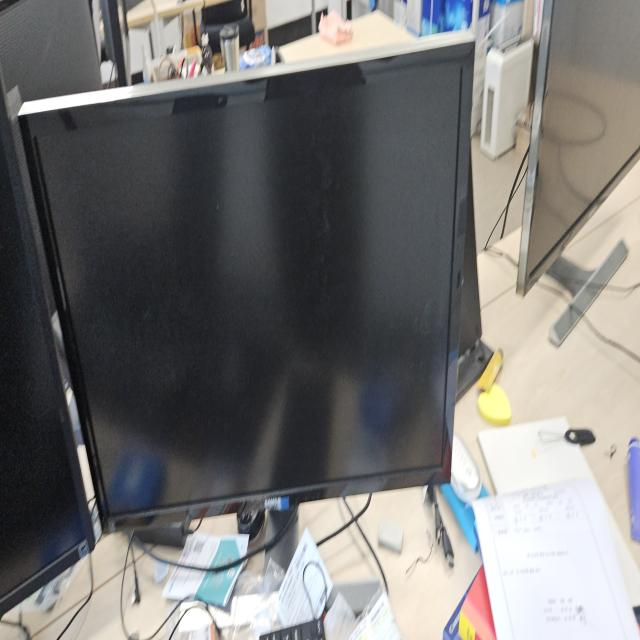Monitor: (16, 31, 484, 547)
